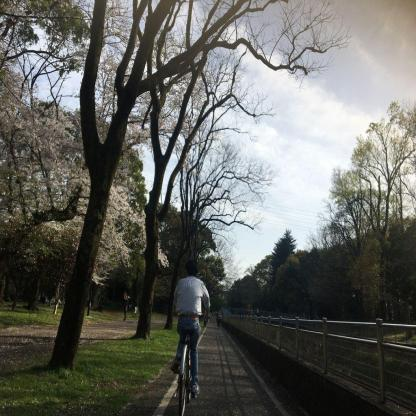Someiyoshino: (0, 1, 208, 326)
